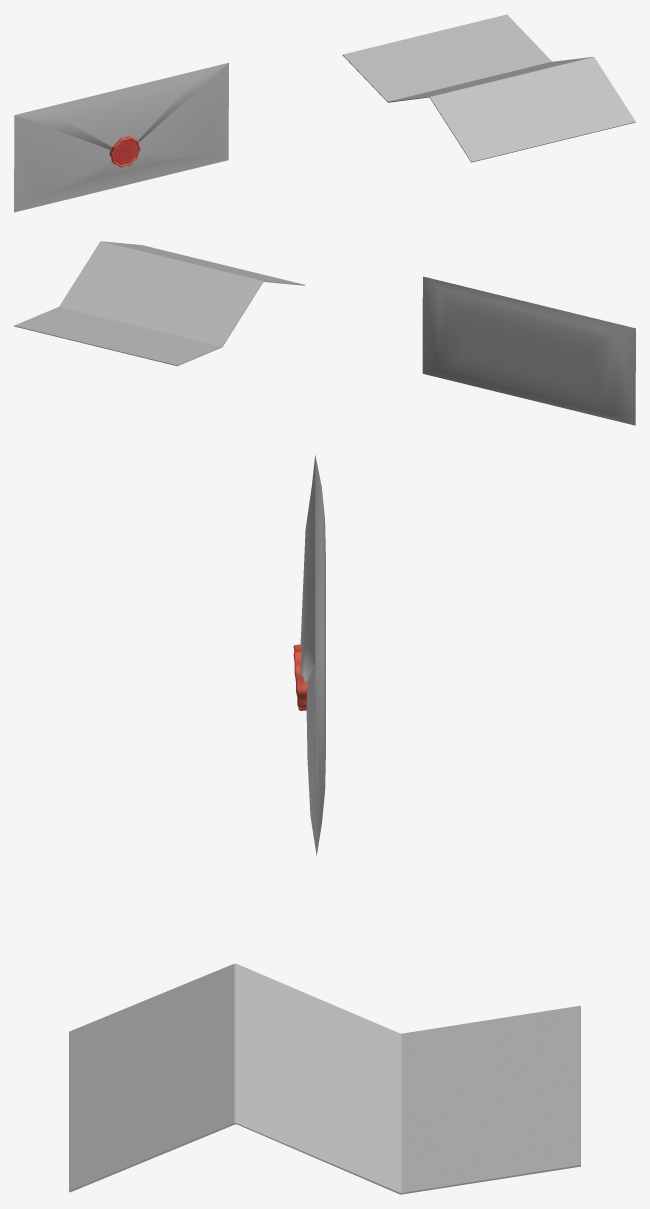
File: letter__envelope_assets.glb
The picture shows the model from 3 angles, top to bottom: view 1: azimuth 30°, elevation 25°; view 2: azimuth 150°, elevation 25°; view 3: azimuth 270°, elevation 25°; orthographic projection. The views are drawn at different scales.
Visible parts, largest first — view 1: pCube21, pCube13, pCylinder17; view 2: pCube13, pCube21; view 3: pCube21, pCube13.
Boxes of the visible parts, x1,y1,x2,y2 form: pCube21: (342, 14, 635, 162); pCube13: (14, 63, 228, 212); pCylinder17: (109, 136, 140, 167); pCube13: (422, 276, 635, 425); pCube21: (14, 241, 304, 366); pCube21: (69, 963, 580, 1194); pCube13: (300, 455, 325, 855).
Bounding box in the file's own units: 15.53 × 2.64 × 6.2.
3 materials, 3 textured.
